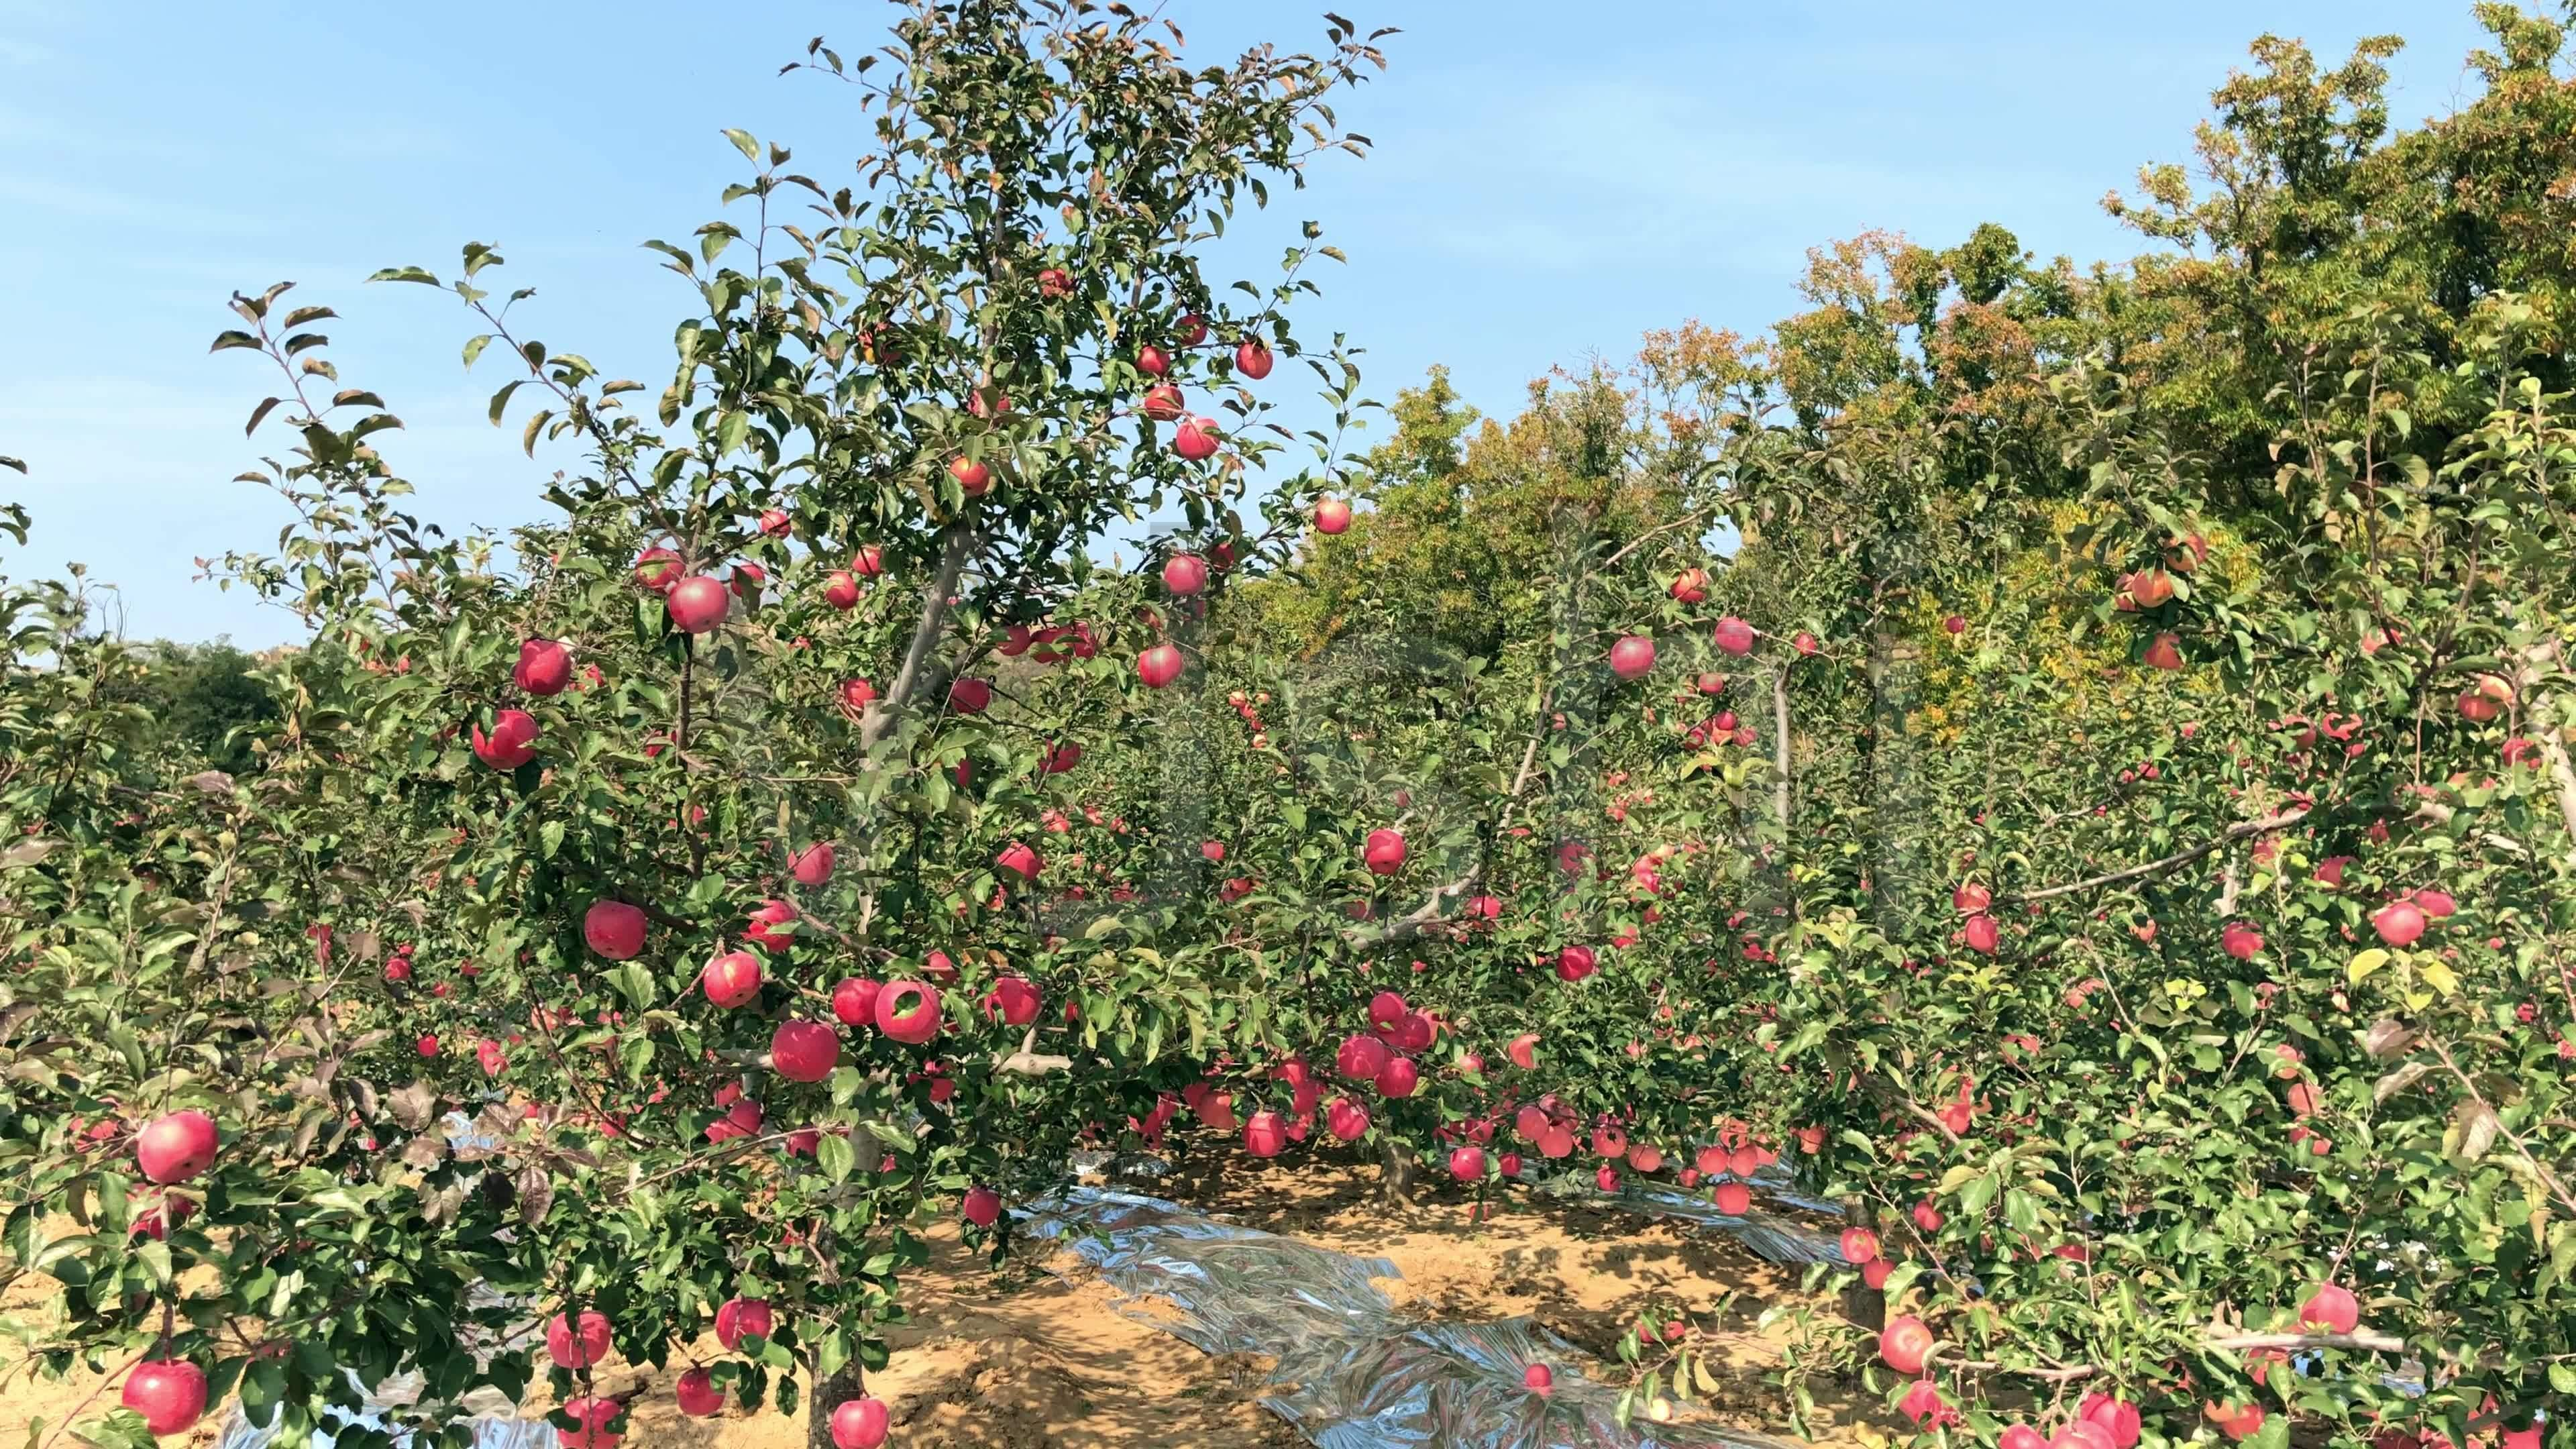apple: (122, 1359, 209, 1435), (140, 1111, 216, 1187), (771, 1019, 839, 1083), (874, 980, 941, 1044), (580, 901, 648, 962), (510, 639, 571, 699), (474, 708, 536, 768), (667, 575, 729, 635), (545, 1313, 610, 1369), (702, 954, 763, 1014), (1877, 1318, 1937, 1371), (2300, 1283, 2357, 1336), (832, 1398, 890, 1449), (2374, 899, 2424, 948), (1332, 1035, 1385, 1079), (1132, 646, 1182, 686), (1612, 635, 1656, 678), (1175, 418, 1221, 458), (1244, 1113, 1284, 1159), (1311, 499, 1355, 538), (1325, 1100, 1369, 1139), (1161, 556, 1205, 594), (950, 458, 991, 495), (1378, 1058, 1415, 1099), (1235, 343, 1274, 380), (1369, 994, 1405, 1035), (1145, 386, 1184, 421), (1716, 616, 1752, 655)
